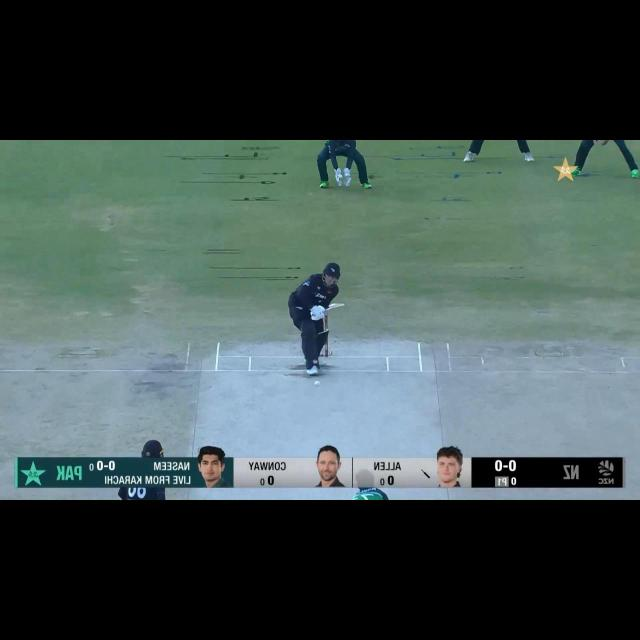bat: (319, 298, 346, 311)
toe: (331, 301, 346, 308)
